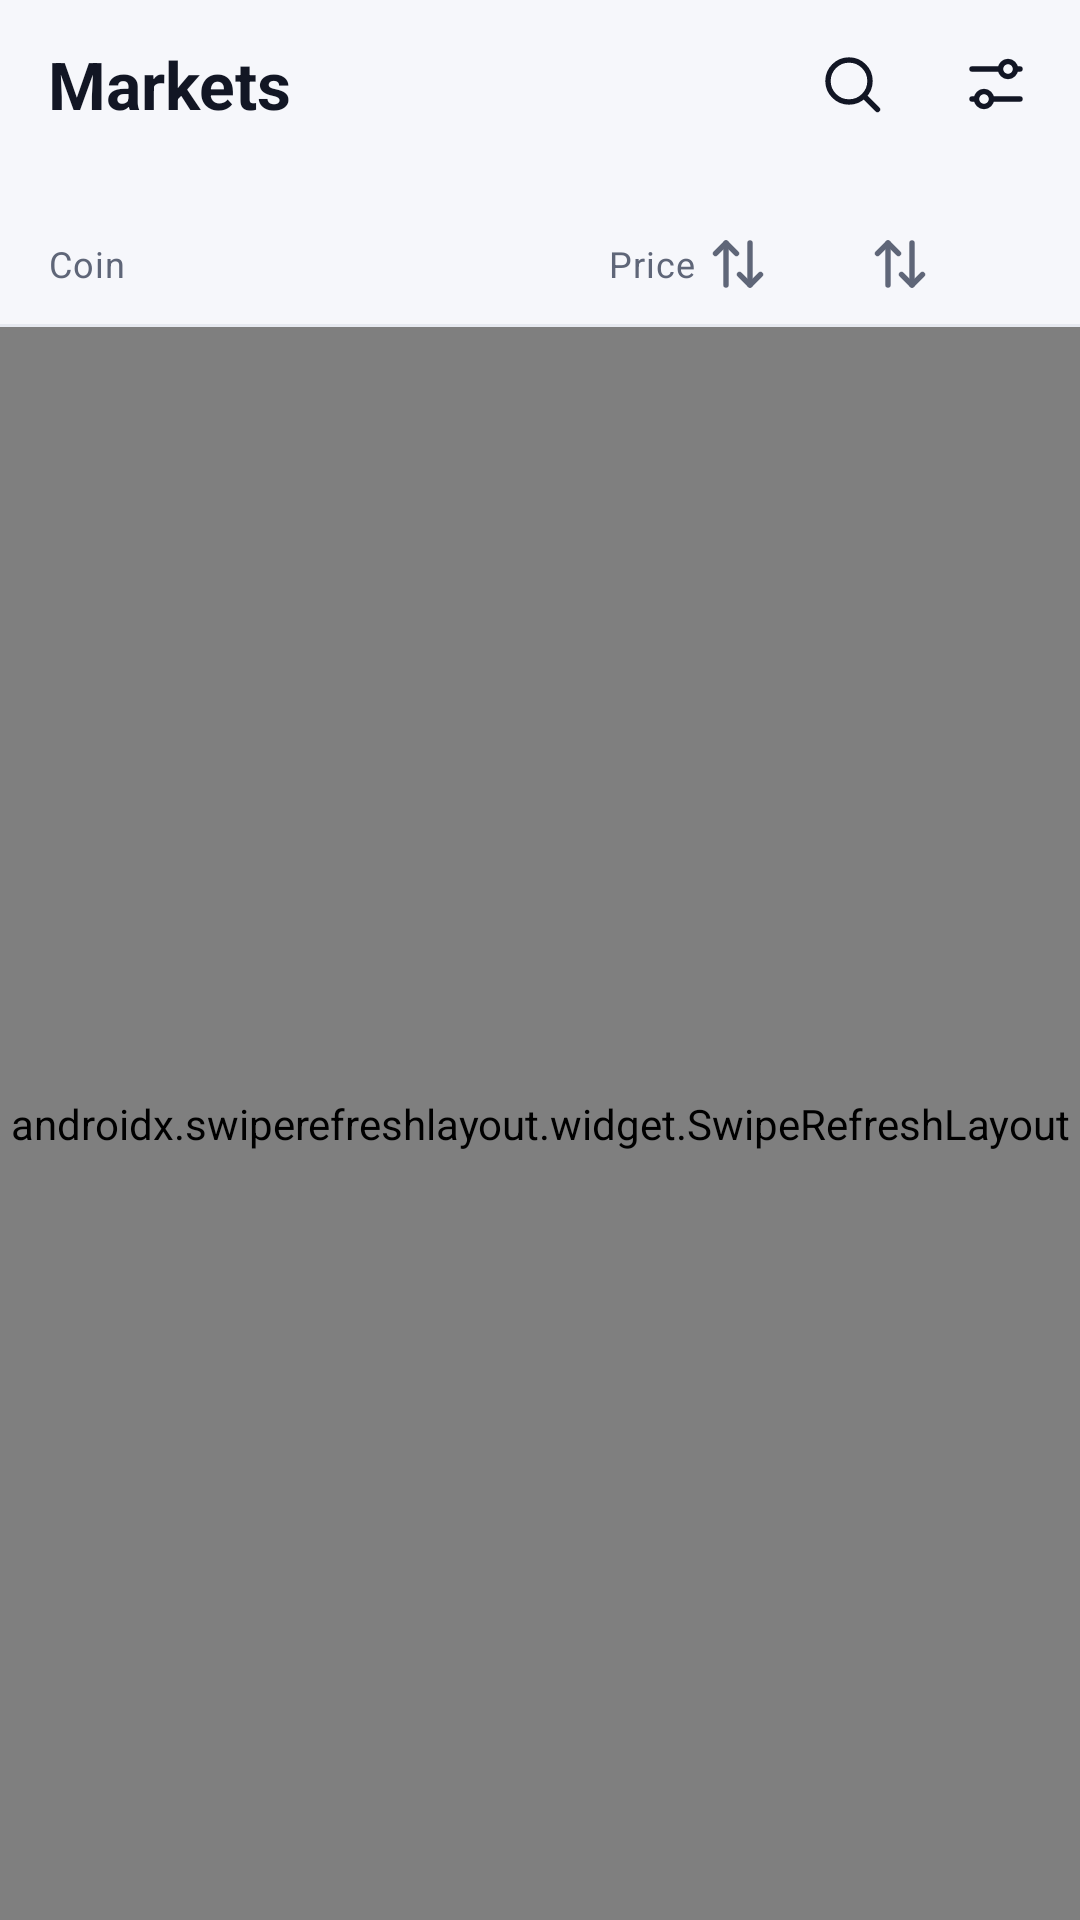

Locate icon controls on the screen. Image size 1080 × 1920, boxes as (x1, y1, x2, y2).
Filters: (969, 58, 1023, 110)
Search coins: (825, 57, 881, 113)
